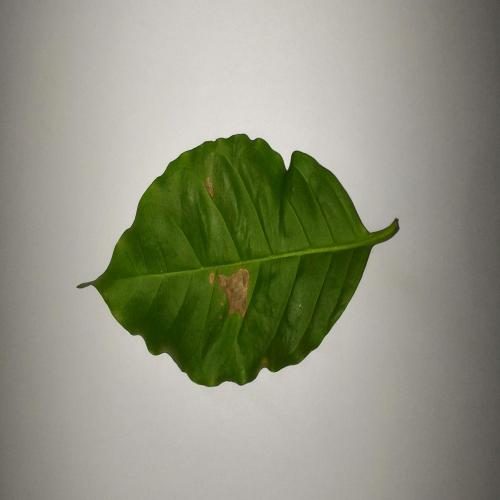leaf: (204, 176, 215, 199)
